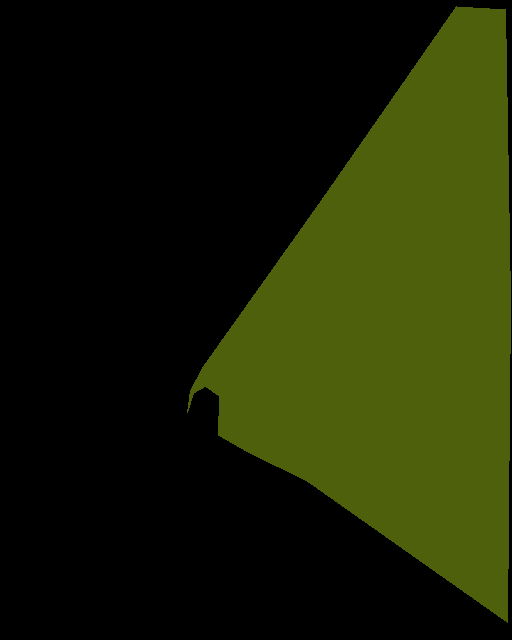Train: (187, 6, 510, 622)
